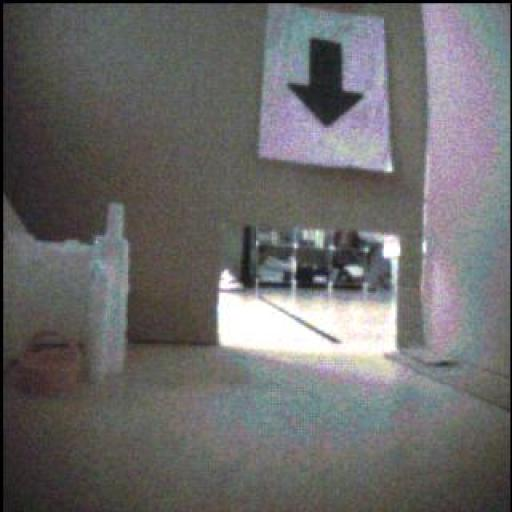arrow: (289, 40, 364, 128)
